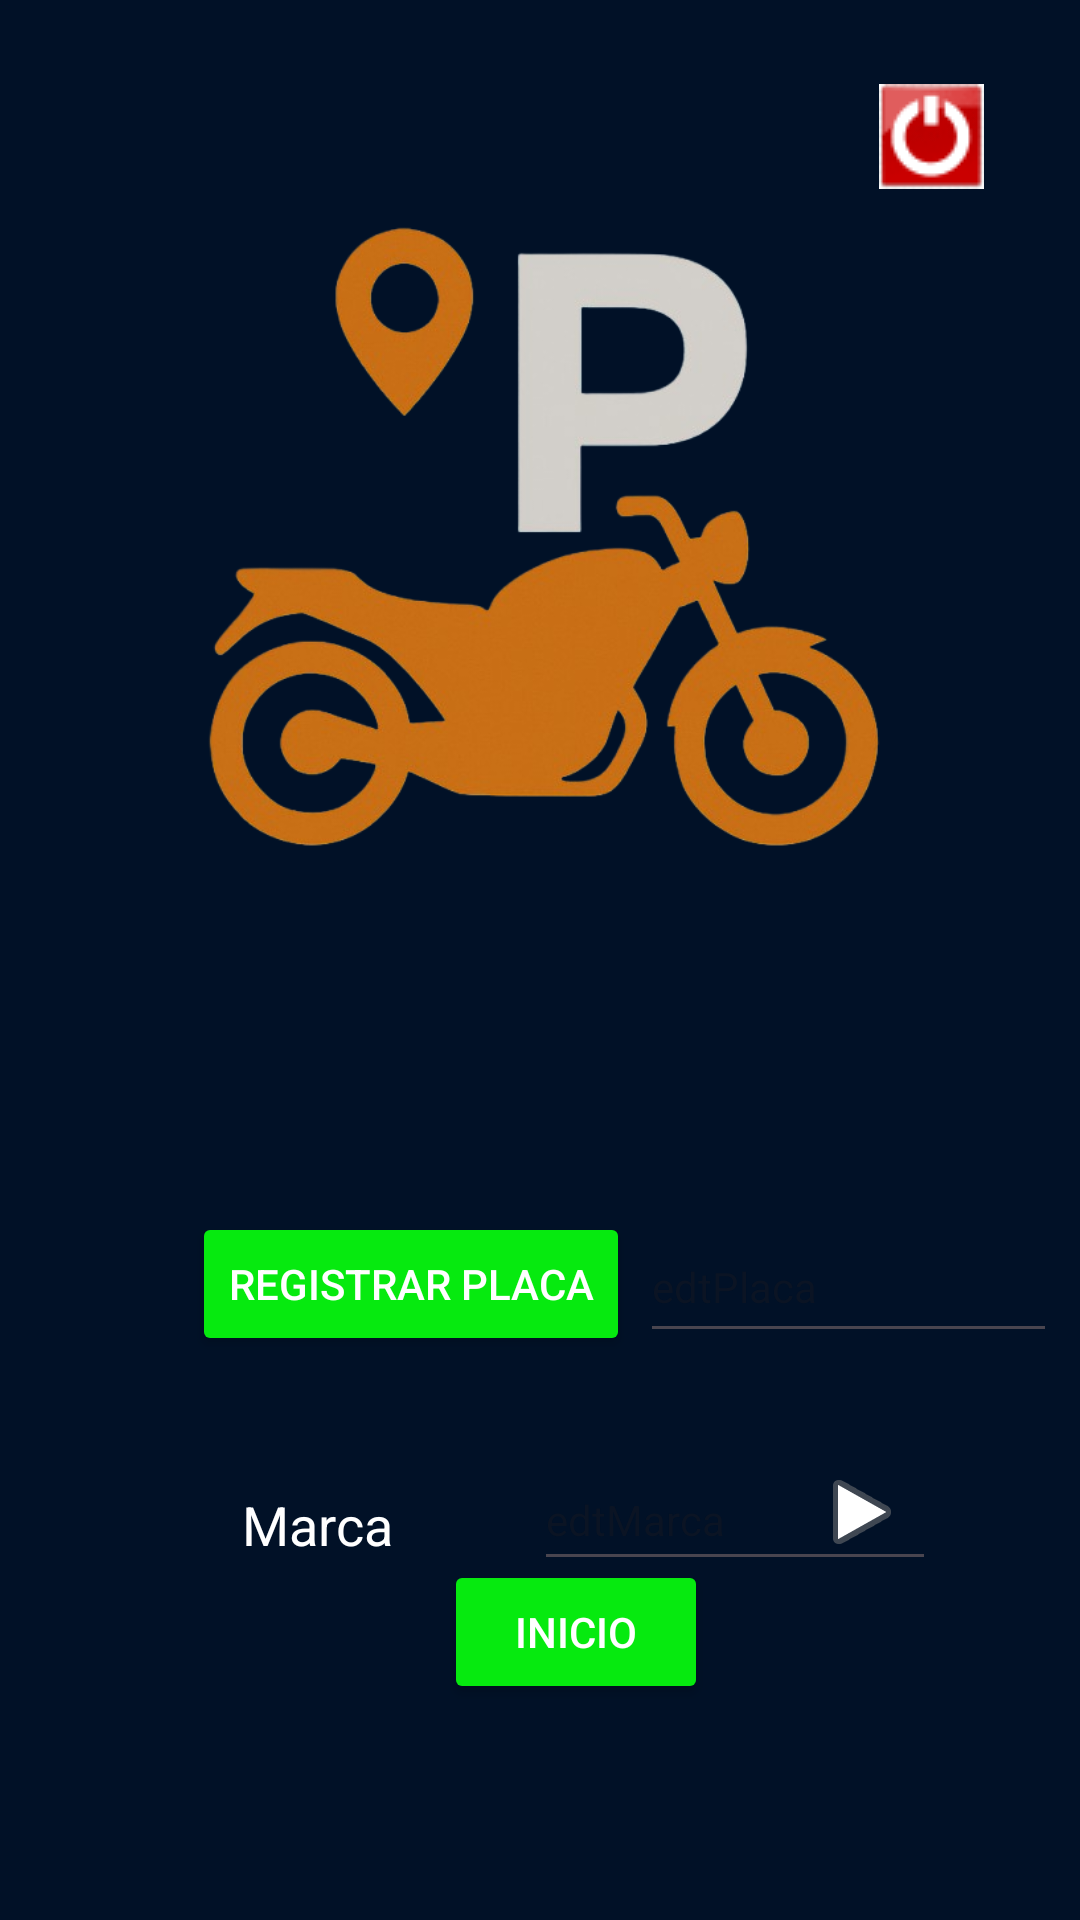

Point at icon controls on the screen. Image size 1080×1920, points as (x,y).
play: (862,1512)
